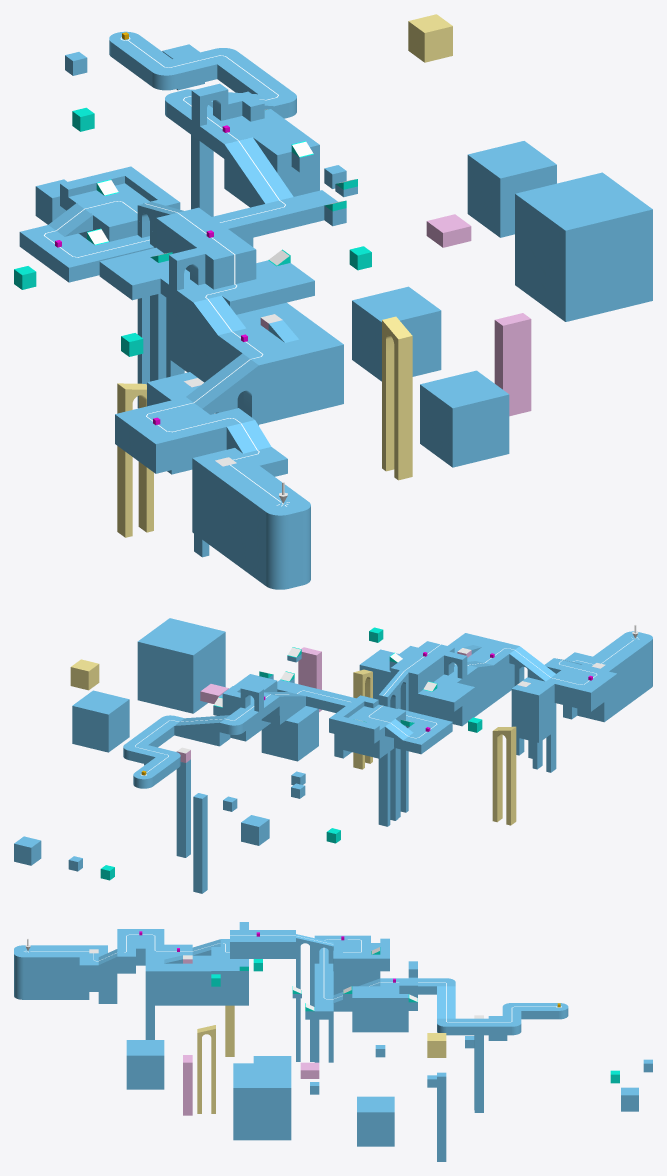
The model's file is level_propulsion.glb.
3 views of the same model, one above another, from view 1: azimuth 30°, elevation 25°; view 2: azimuth 150°, elevation 25°; view 3: azimuth 270°, elevation 25° (orthographic). The views are drawn at different scales.
Visible parts, largest first — view 1: block_4x4x4__2_, block_1x1x1__5__1, block_4x4x4, block_1x1x1, block_4x4x4__1_, block_4x4x4__3_, block_2x2x1__1_, block_4x4x1, block_1x1x1__2_, arch_support__1__1, block_4x4x4__4_, block_2x2x1__1__1 (+33 smaller); view 2: block_4x4x4__2_, block_1x1x1__5__1, block_4x4x4__1_, block_1x1x1, block_1x1x1__2__2, block_4x4x4__3_, block_4x4x1, block_2x2x1__1_, arch_support_1, block_1x1x1_9, arch_support__3_, block_1x1x1__9__1 (+29 smaller); view 3: block_4x4x4__2_, block_1x1x1__5__1, block_1x1x1, block_4x4x4__4_, block_4x4x4, block_4x4x4__1_, block_4x4x1, block_1x1x1_9, block_2x2x1__1_, arch_support__4_, block_1x1x1__7__1, block_1x1x1_1 (+17 smaller).
Part boxes in pixels (bbox=[...]): block_4x4x4__2_: bbox=[515, 172, 652, 321]; block_1x1x1__5__1: bbox=[169, 300, 343, 424]; block_4x4x4: bbox=[420, 370, 509, 467]; block_1x1x1: bbox=[208, 460, 308, 585]; block_4x4x4__1_: bbox=[467, 141, 556, 237]; block_4x4x4__3_: bbox=[352, 286, 441, 381]; block_2x2x1__1_: bbox=[52, 190, 337, 282]; block_4x4x1: bbox=[156, 207, 256, 289]; block_1x1x1__2_: bbox=[139, 408, 254, 473]; arch_support__1__1: bbox=[382, 350, 412, 480]; block_4x4x4__4_: bbox=[228, 109, 319, 196]; block_2x2x1__1__1: bbox=[494, 313, 531, 416]; block_4x4x4__2_: bbox=[137, 618, 225, 713]; block_1x1x1__5__1: bbox=[408, 633, 519, 726]; block_4x4x4__1_: bbox=[72, 690, 129, 752]; block_1x1x1: bbox=[588, 633, 651, 714]; block_1x1x1__2__2: bbox=[511, 677, 554, 742]; block_4x4x4__3_: bbox=[261, 706, 318, 761]; block_4x4x1: bbox=[390, 641, 454, 693]; block_2x2x1__1_: bbox=[277, 680, 452, 738]; arch_support_1: bbox=[492, 742, 516, 825]; block_1x1x1_9: bbox=[343, 704, 405, 758]; arch_support__3_: bbox=[378, 699, 398, 826]; block_1x1x1__9__1: bbox=[193, 793, 207, 893]; block_4x4x4__2_: bbox=[233, 1063, 291, 1140]; block_1x1x1__5__1: bbox=[145, 947, 248, 1005]; block_1x1x1: bbox=[23, 945, 89, 999]; block_4x4x4__4_: bbox=[352, 986, 408, 1032]; block_4x4x4: bbox=[126, 1040, 164, 1089]; block_4x4x4__1_: bbox=[357, 1096, 394, 1146]; block_4x4x1: bbox=[230, 930, 295, 958]; block_1x1x1_9: bbox=[333, 943, 380, 988]; block_2x2x1__1_: bbox=[314, 935, 333, 1019]; arch_support__4_: bbox=[296, 946, 314, 1061]; block_1x1x1__7__1: bbox=[446, 1018, 502, 1035]; block_1x1x1_1: bbox=[211, 947, 248, 979].
Size of the model in its own units: 43 by 21 by 68.
